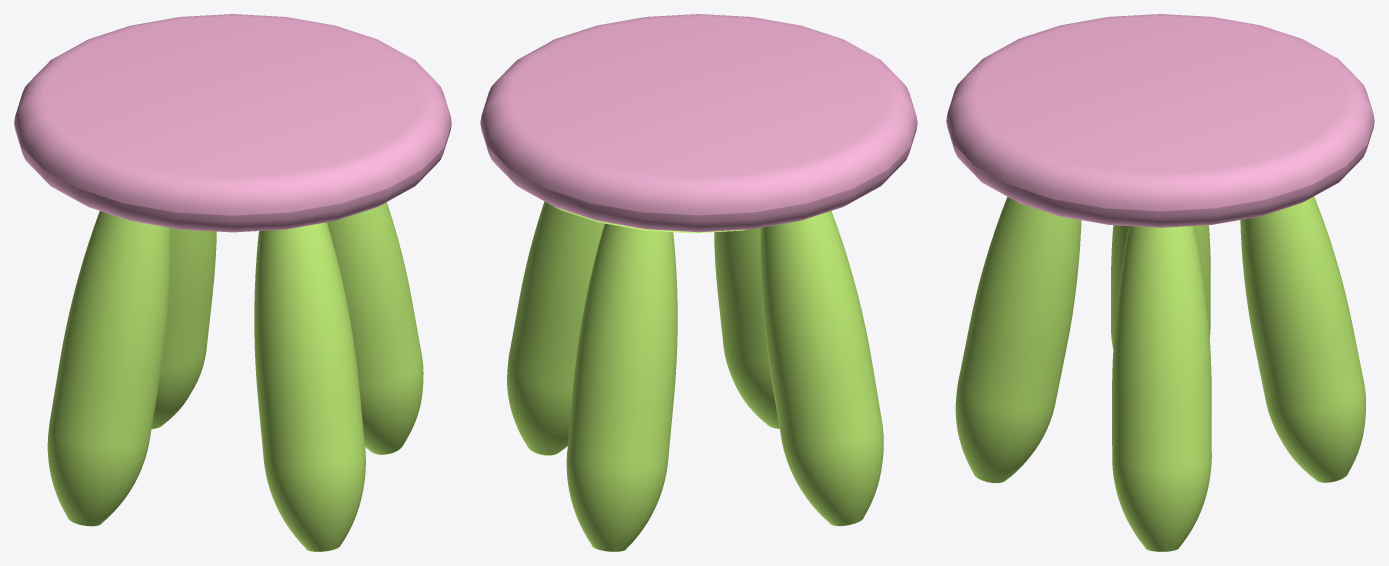
File: kruk02.fbx
3 views of the same model, side by side, from view 1: azimuth 30°, elevation 25°; view 2: azimuth 150°, elevation 25°; view 3: azimuth 270°, elevation 25° (orthographic). The views are drawn at different scales.
Parts seen in each view (by area): view 1: skeB1A1_1; view 2: skeB1A1_1; view 3: skeB1A1_1.
Boxes of the visible parts, bbox=[...] form: skeB1A1_1: bbox=[14, 14, 451, 551]; skeB1A1_1: bbox=[480, 14, 917, 551]; skeB1A1_1: bbox=[946, 14, 1374, 551].
Bounding box in the file's own units: 11.81 × 11.61 × 11.81.
